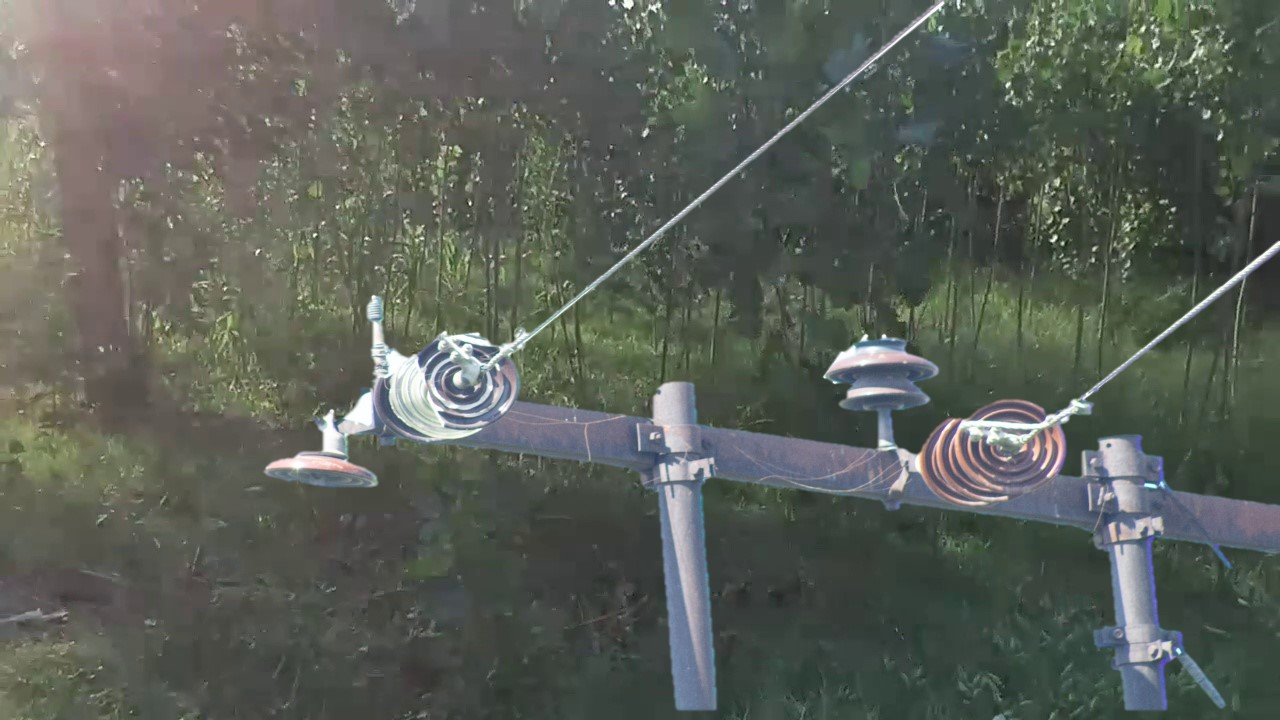defect_disc: (412, 327, 523, 436)
insulator_disc: (951, 392, 1068, 495), (259, 425, 383, 498)
